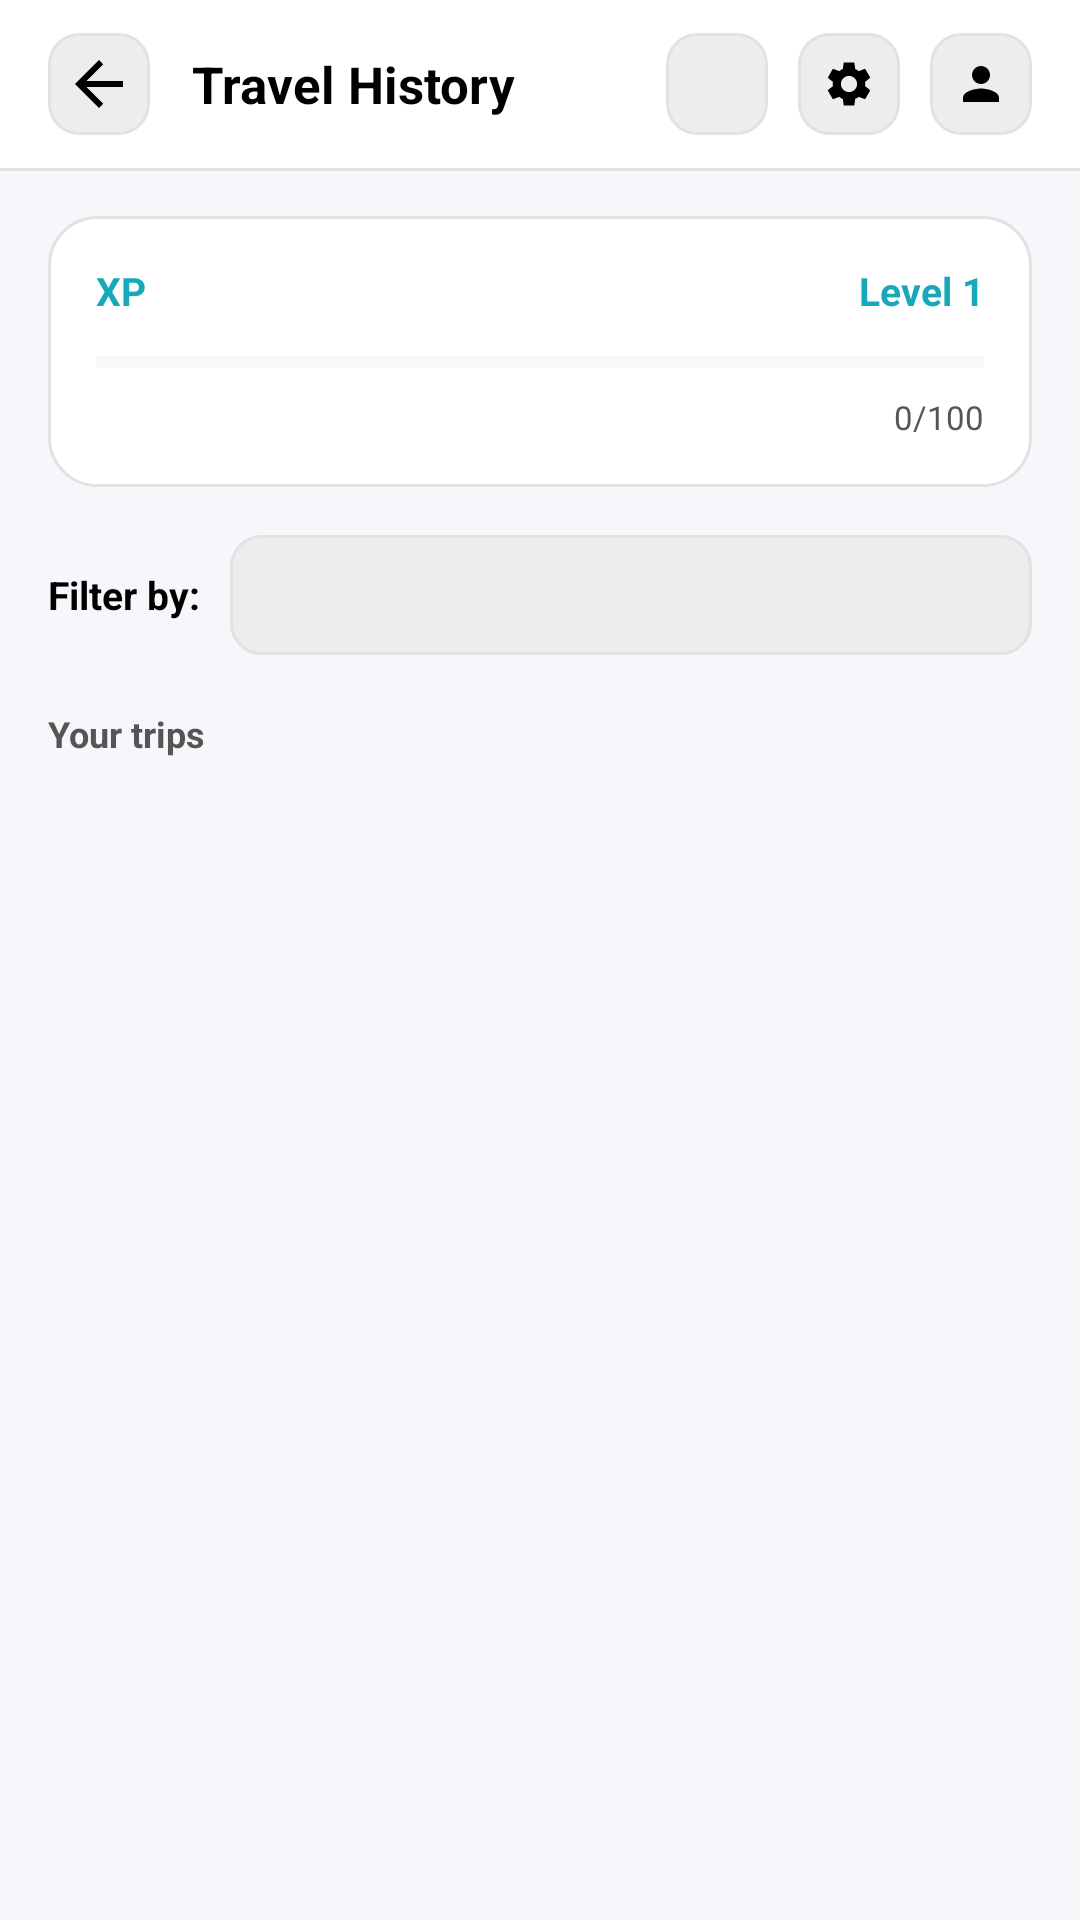

Icons on this 1080 x 1920 Android screen, each with the point to tap as point (x, y):
Back: point (99, 84)
person: point (981, 84)
settings: point (849, 84)
